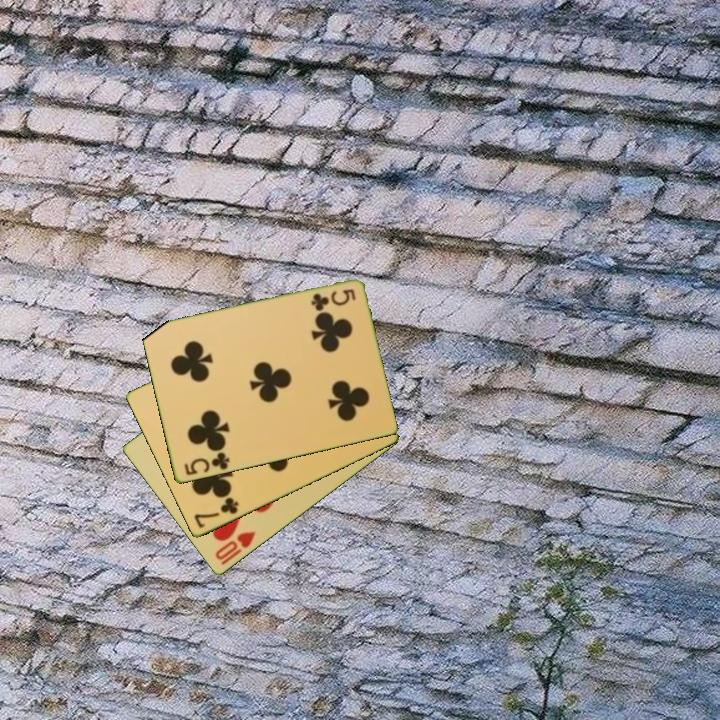10h: (211, 528, 258, 568)
5c: (180, 449, 232, 478), (307, 286, 358, 313)
7c: (190, 494, 242, 531)
